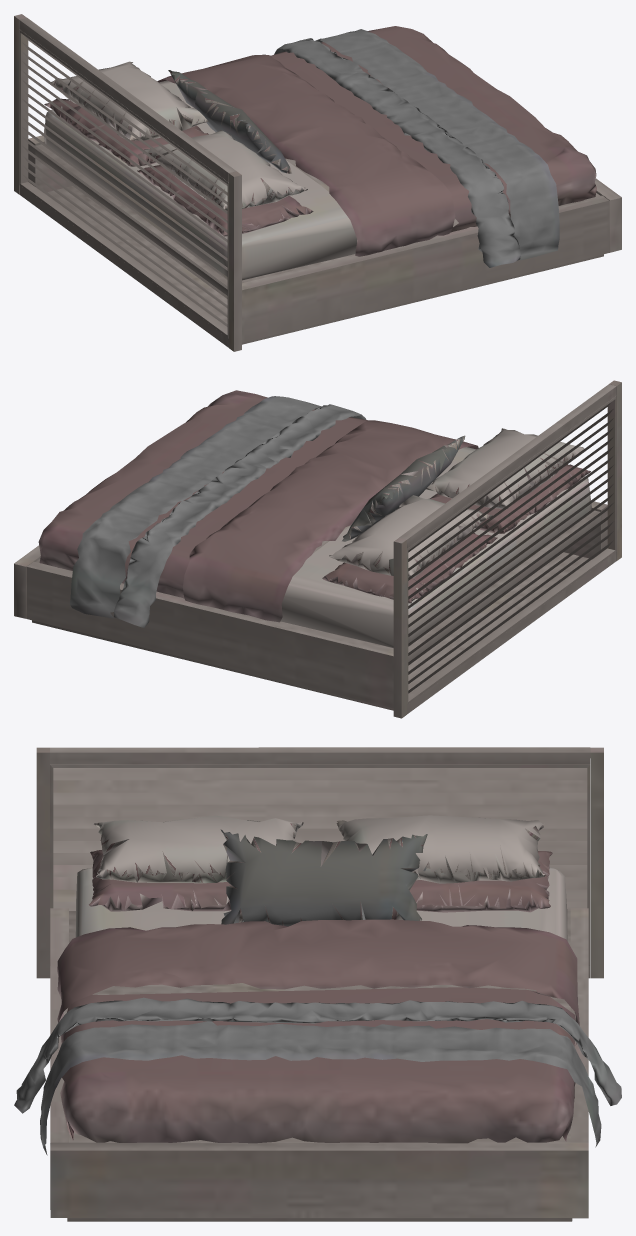
Rendered from Bed0006.obj.
The picture shows the model from 3 angles, top to bottom: view 1: azimuth 30°, elevation 25°; view 2: azimuth 150°, elevation 25°; view 3: azimuth 270°, elevation 25°; orthographic projection. The views are drawn at different scales.
Size of the model in its own units: 2.03 by 0.893 by 2.1.
1 material, 1 textured.
